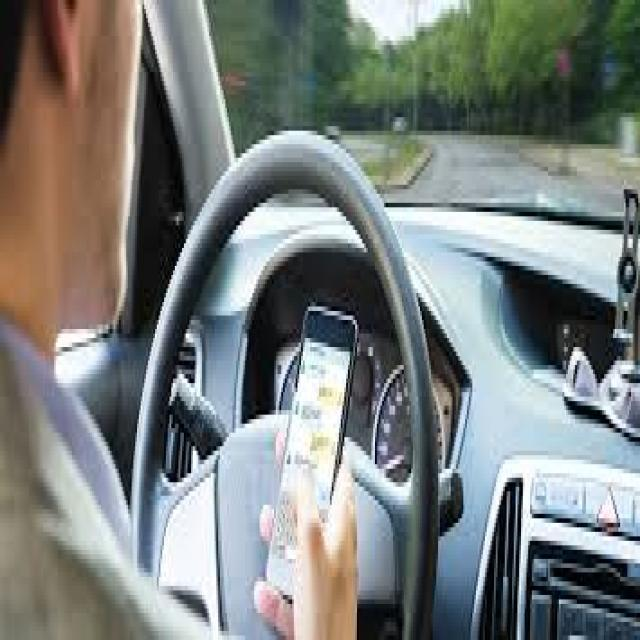Cellphone_texting: (256, 288, 366, 636)
